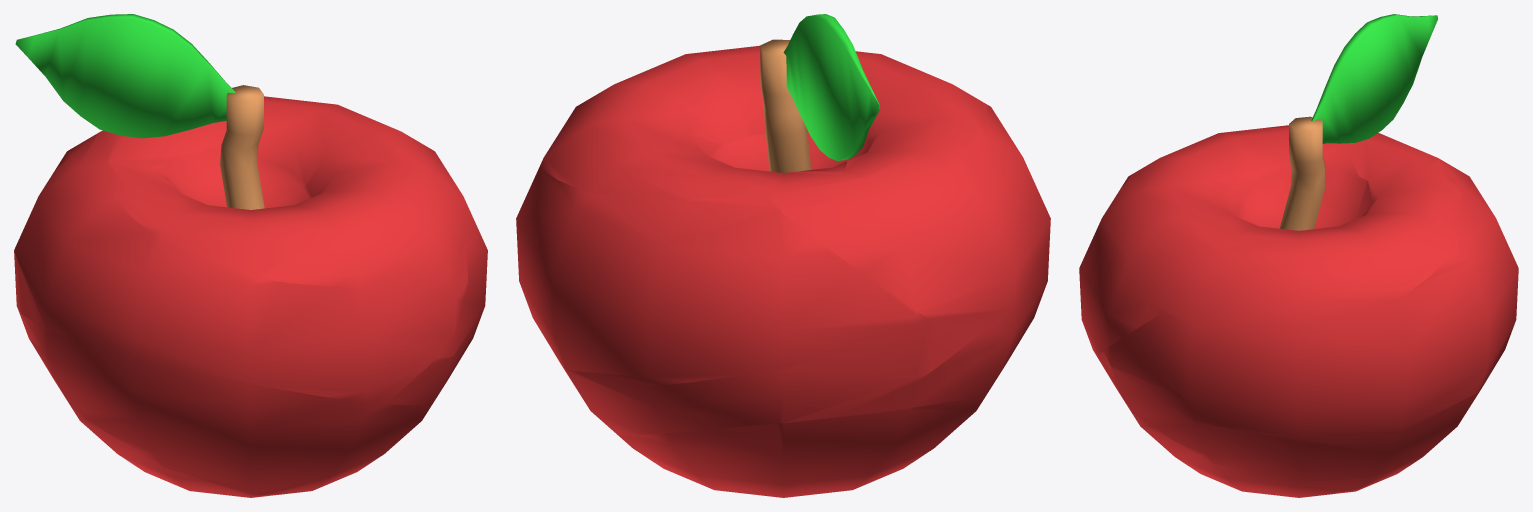
File: Low_Poly_Fruits_Pack_By_Edwin3D 1.fbx
3 renders of one model, left to right at view 1: azimuth 30°, elevation 25°; view 2: azimuth 150°, elevation 25°; view 3: azimuth 270°, elevation 25°, orthographic. The views are drawn at different scales.
Parts seen in each view (by area): view 1: Apple_Leaf.005, Apple_Leaf.003, Apple_Leaf.004, Apple_Leaf.002, Apple_Leaf.001, Apple_Leaf.006, Apple_Leaf; view 2: Apple_Leaf.001, Apple_Leaf.003, Apple_Leaf.005, Apple_Leaf.006, Apple_Leaf, Apple_Leaf.002, Apple_Leaf.004; view 3: Apple_Leaf.003, Apple_Leaf.001, Apple_Leaf.002, Apple_Leaf.006, Apple_Leaf.005, Apple_Leaf.004.
Boxes of the visible parts, box(x1,y1,x2,y2) form: Apple_Leaf.005: box(15, 130, 467, 404); Apple_Leaf.003: box(106, 96, 477, 289); Apple_Leaf.004: box(19, 312, 432, 494); Apple_Leaf.002: box(15, 14, 264, 209); Apple_Leaf.001: box(14, 134, 487, 358); Apple_Leaf.006: box(14, 258, 474, 405); Apple_Leaf: box(18, 39, 278, 497); Apple_Leaf.001: box(516, 168, 927, 386); Apple_Leaf.003: box(539, 45, 987, 201); Apple_Leaf.005: box(762, 102, 1050, 340); Apple_Leaf.006: box(541, 318, 970, 434); Apple_Leaf: box(618, 95, 986, 497); Apple_Leaf.002: box(760, 14, 879, 172); Apple_Leaf.004: box(836, 242, 1049, 416); Apple_Leaf.003: box(1096, 127, 1462, 329); Apple_Leaf.001: box(1104, 160, 1518, 442); Apple_Leaf.002: box(1280, 14, 1437, 230); Apple_Leaf.006: box(1098, 329, 1512, 482); Apple_Leaf.005: box(1079, 125, 1440, 355); Apple_Leaf.004: box(1087, 334, 1423, 497).
Size of the model in its own units: 198 by 194 by 198.
